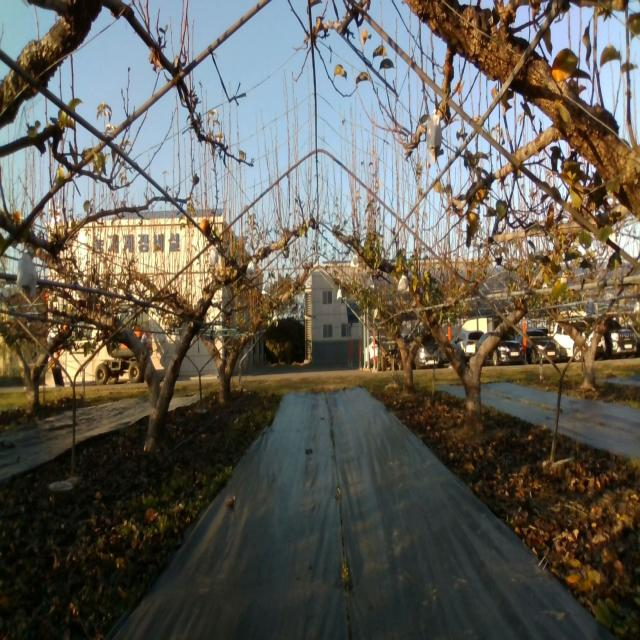pearbags: (16, 246, 38, 299), (426, 109, 442, 164), (397, 274, 410, 293), (209, 244, 219, 267)
